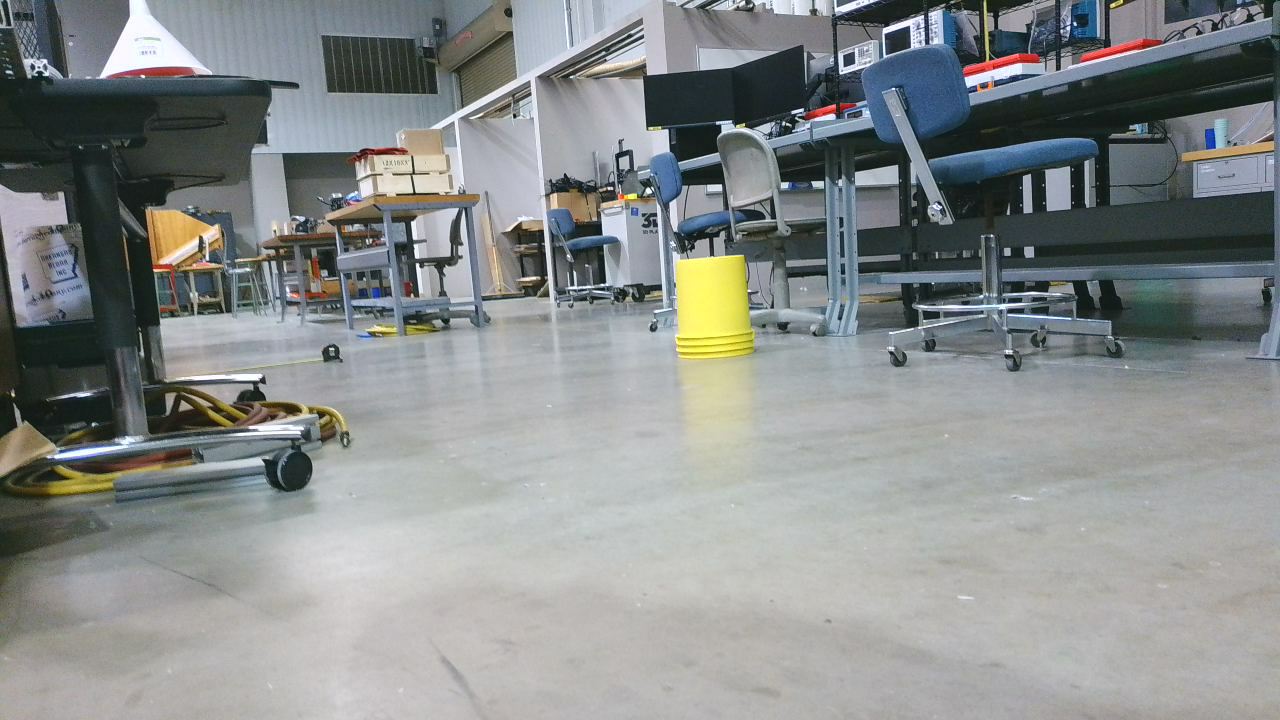yellow_bucket: (681, 259, 761, 360)
